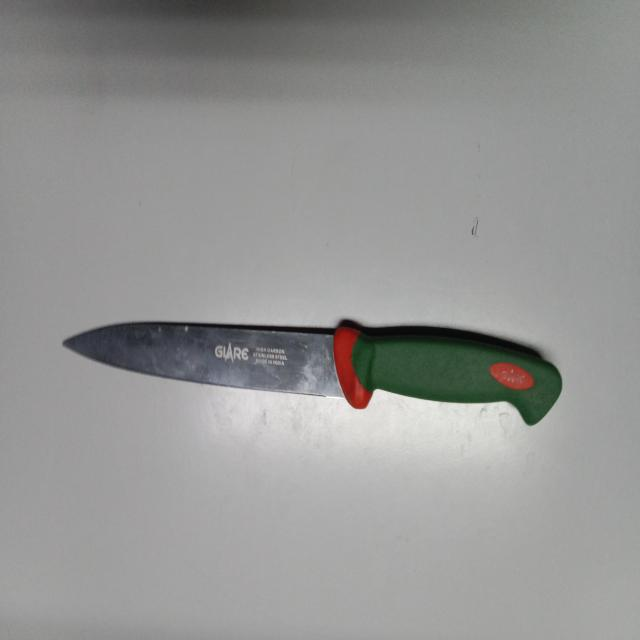Knife: (63, 321, 563, 425)
